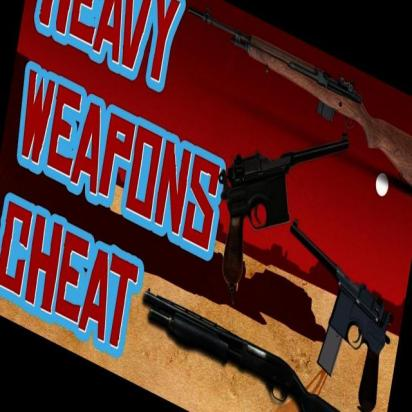Gun: (186, 0, 412, 180), (142, 287, 339, 412)
